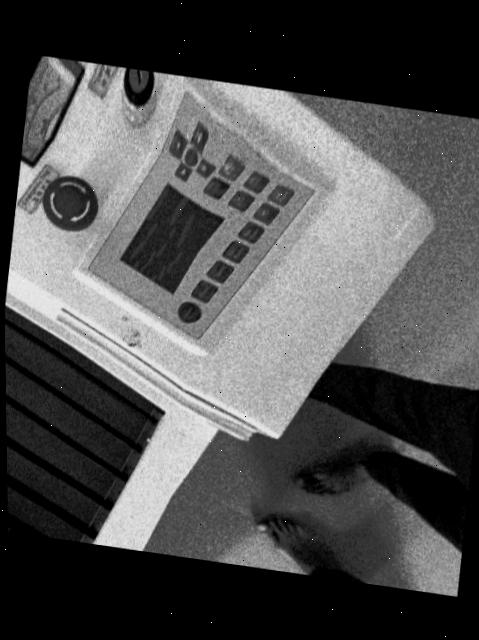Amp_Meter: (21, 55, 81, 164)
Display: (116, 185, 218, 291)
Down_button: (194, 159, 214, 177)
Emergency_Stop: (40, 176, 96, 231)
Enter_button: (217, 155, 243, 180)
Esc_button: (202, 178, 227, 198)
File_button: (252, 203, 277, 224)
Frame_button: (241, 172, 267, 193)
Left_button: (173, 163, 190, 181)
Max-Power_button: (237, 222, 262, 243)
Min-Power_button: (221, 241, 247, 263)
Origin_button: (226, 190, 252, 211)
Power_switch: (122, 67, 153, 126)
Pulse_button: (189, 281, 216, 302)
Reset_button: (176, 302, 199, 323)
Right_button: (189, 123, 206, 151)
Speed_button: (205, 261, 231, 282)
Start-Pause_button: (267, 185, 292, 205)
Up_button: (167, 131, 184, 158)
Z_U_button: (183, 149, 196, 165)
